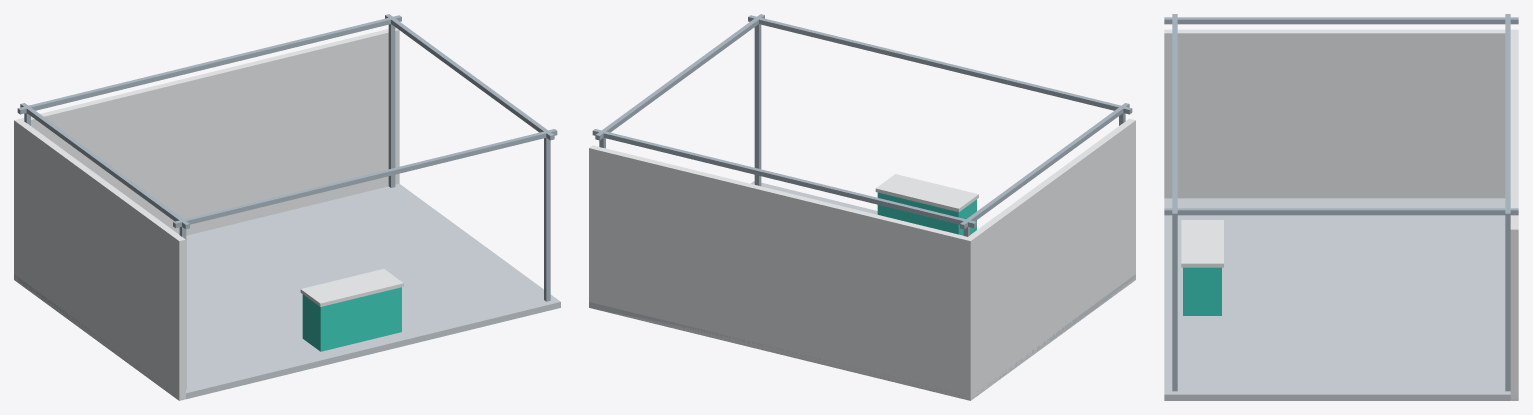
3 views of the same model, side by side, from view 1: azimuth 30°, elevation 25°; view 2: azimuth 150°, elevation 25°; view 3: azimuth 270°, elevation 25° (orthographic). The views are drawn at different scales.
Parts seen in each view (by area): view 1: Exhibition Booth Concept; view 2: Exhibition Booth Concept; view 3: Exhibition Booth Concept.
Part boxes in pixels (left/top/right/bottom): Exhibition Booth Concept: left=14, top=14, right=560, bottom=400; Exhibition Booth Concept: left=589, top=14, right=1135, bottom=400; Exhibition Booth Concept: left=1164, top=14, right=1518, bottom=400.
Bounding box in the file's own units: 8 × 3.49 × 6.
